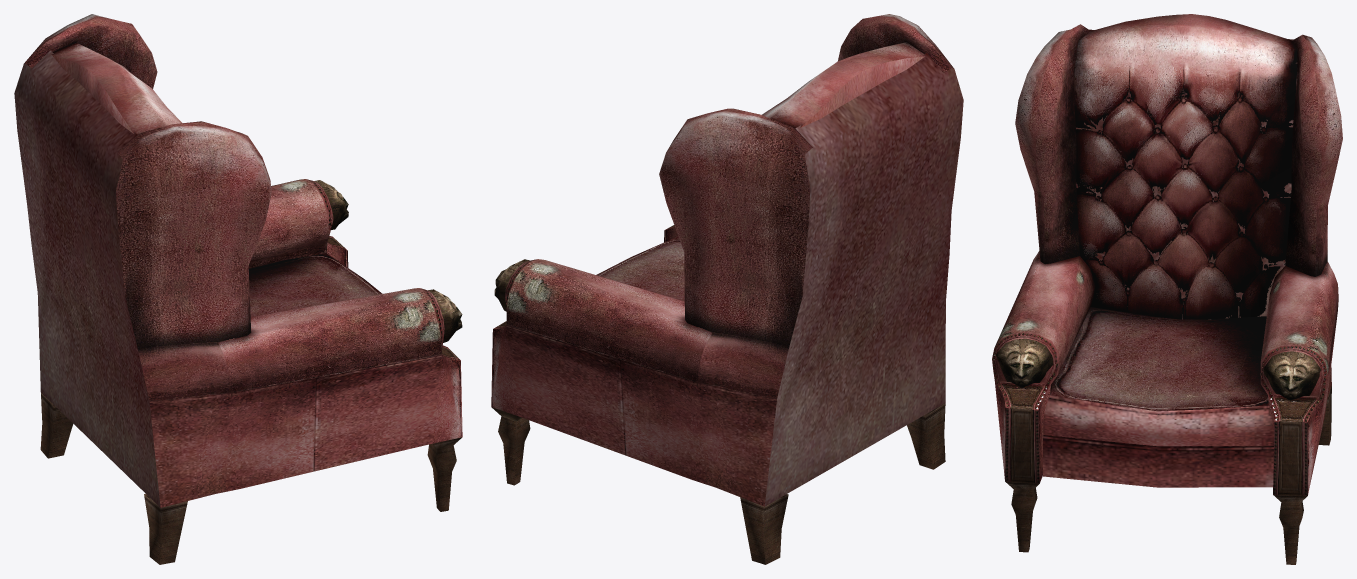
File: chair2.dae
3 views of the same model, side by side, from view 1: azimuth 30°, elevation 25°; view 2: azimuth 150°, elevation 25°; view 3: azimuth 270°, elevation 25° (orthographic). The views are drawn at different scales.
Visible parts, largest first — view 1: armchair_001; view 2: armchair_001; view 3: armchair_001.
Part boxes in pixels (x1,y1,x2,y2): armchair_001: (14,14,462,564); armchair_001: (491,14,963,564); armchair_001: (992,14,1342,564).
Bounding box in the file's own units: 4.95 × 4.58 × 5.97.
9 materials, 9 textured.
